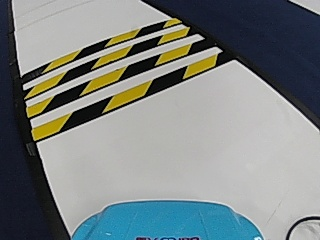bump: (33, 26, 176, 123)
